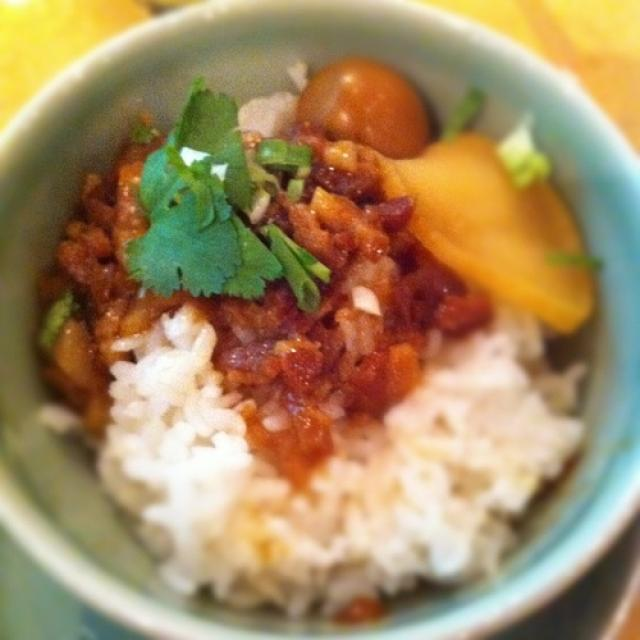猪肉菜式: (5, 15, 627, 613)
